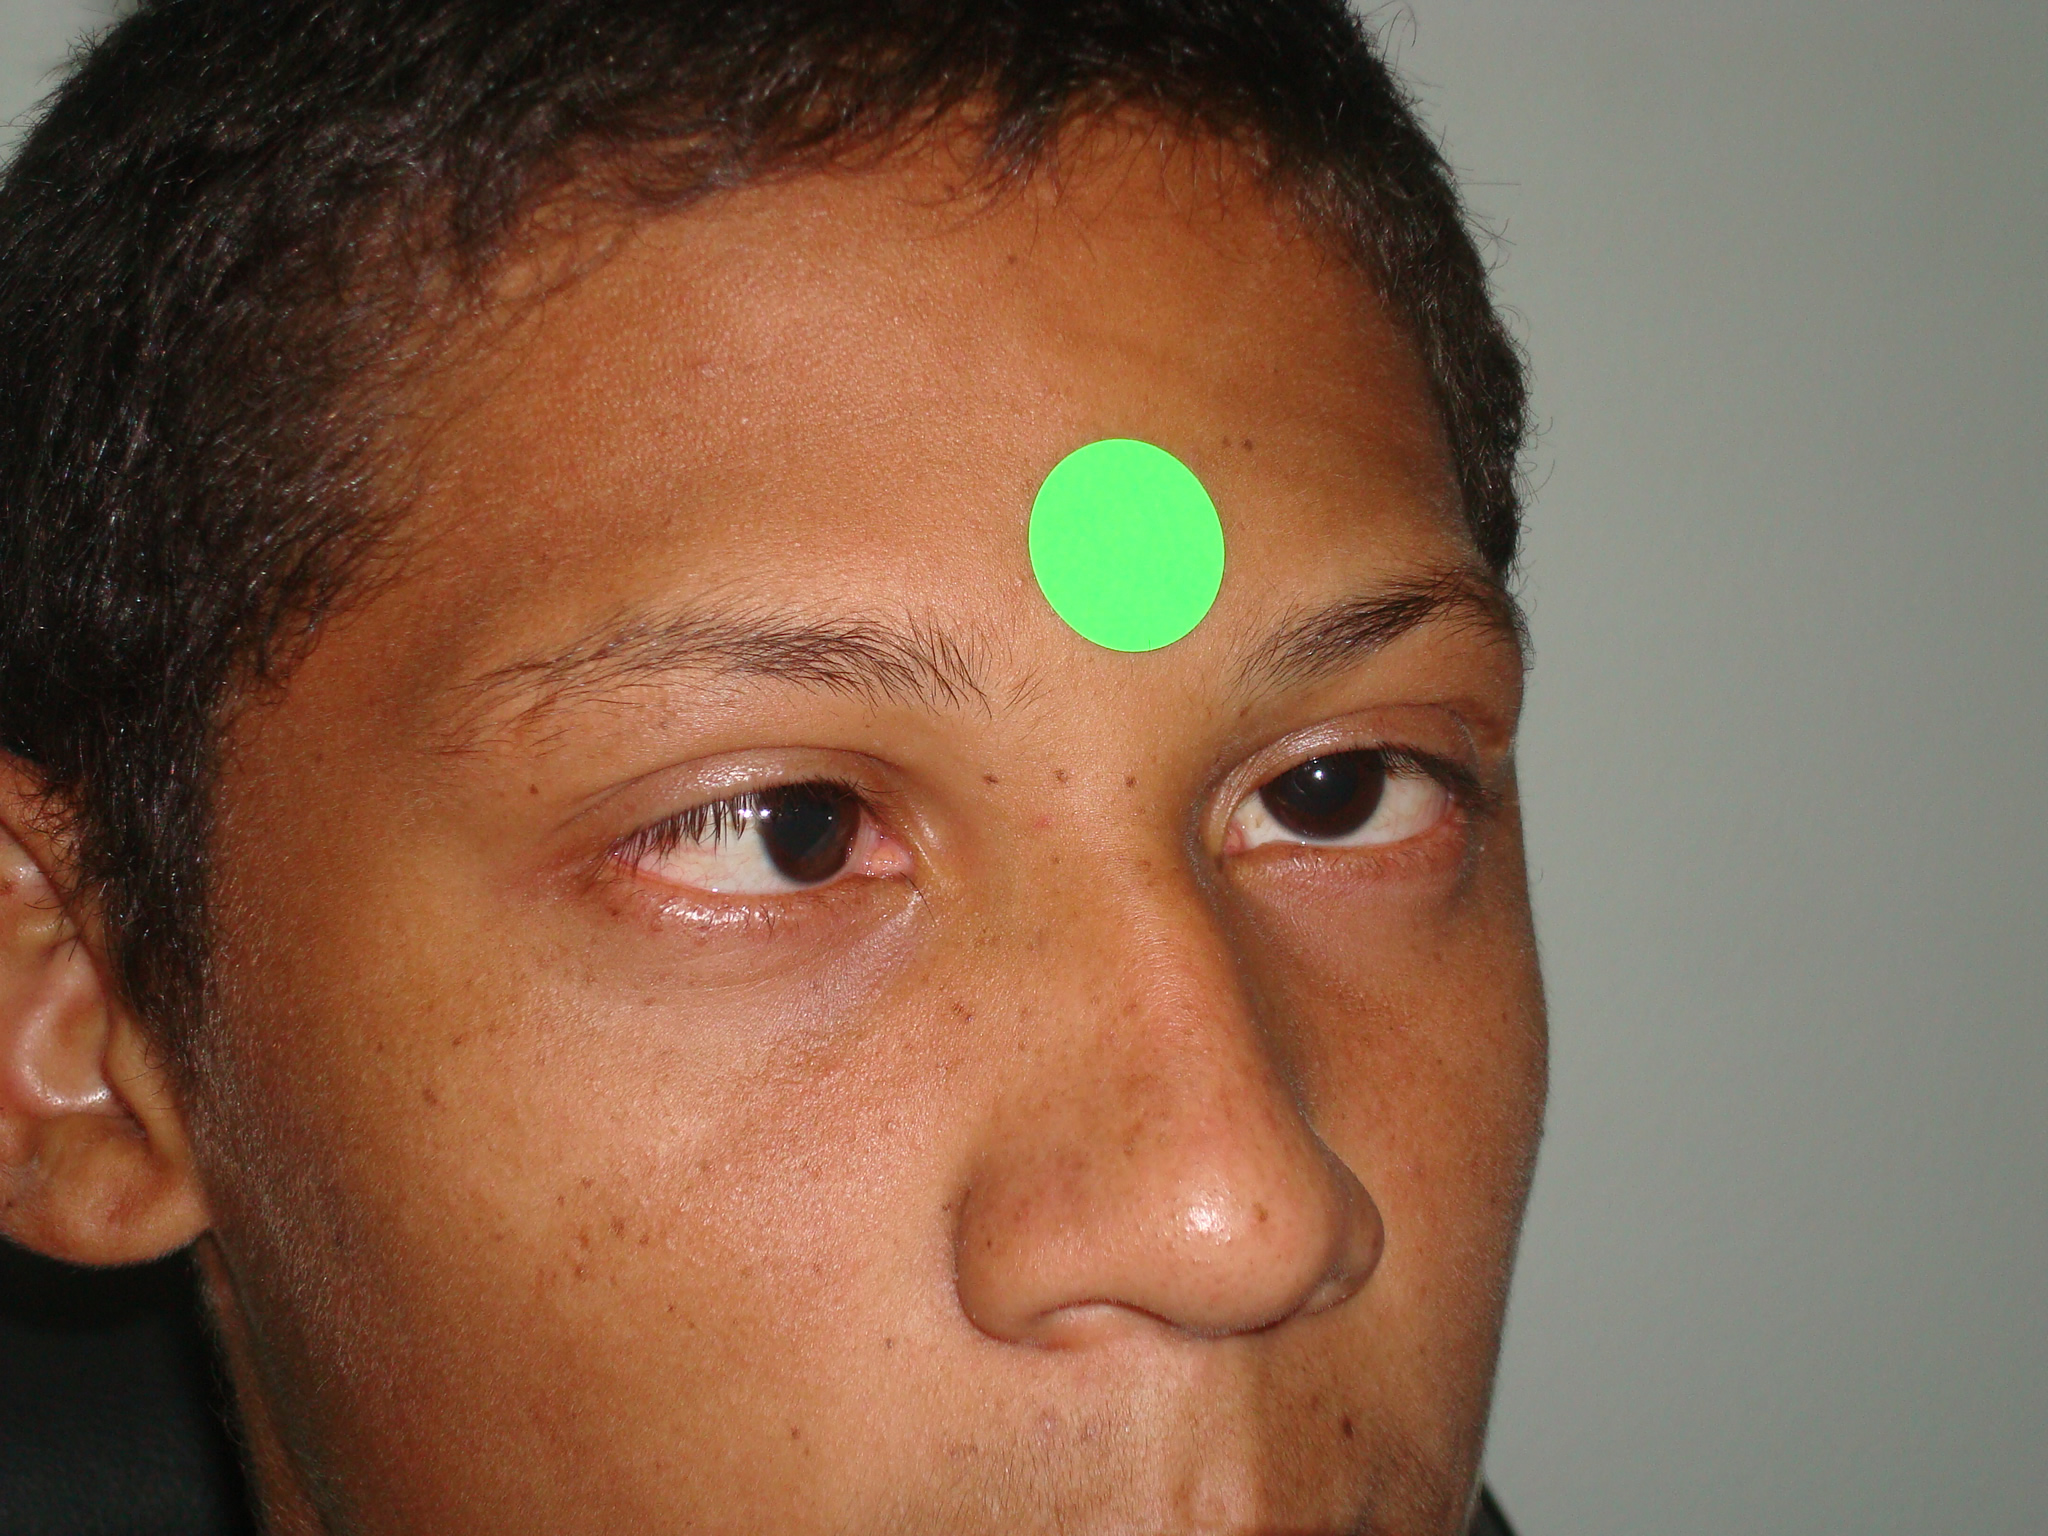flash: (753, 802, 779, 826), (1309, 763, 1327, 784)
limbo: (1251, 718, 1384, 828), (748, 760, 860, 883)
